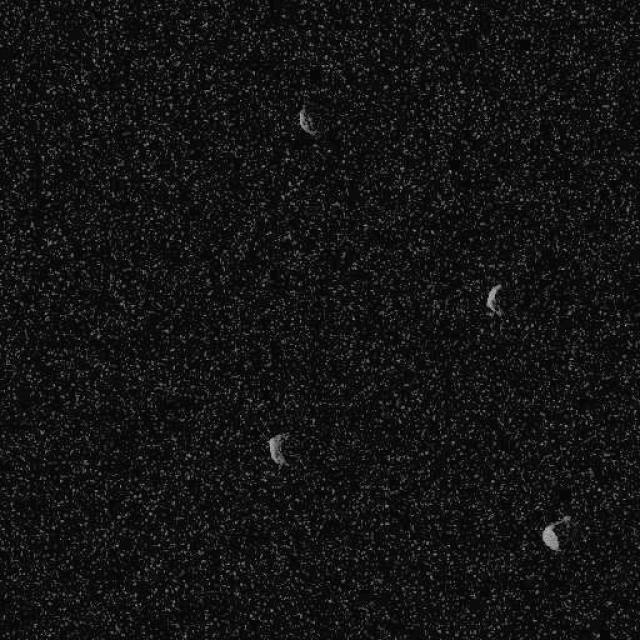D2: (540, 514, 571, 551), (266, 430, 289, 466), (296, 104, 320, 138), (484, 282, 504, 318)
